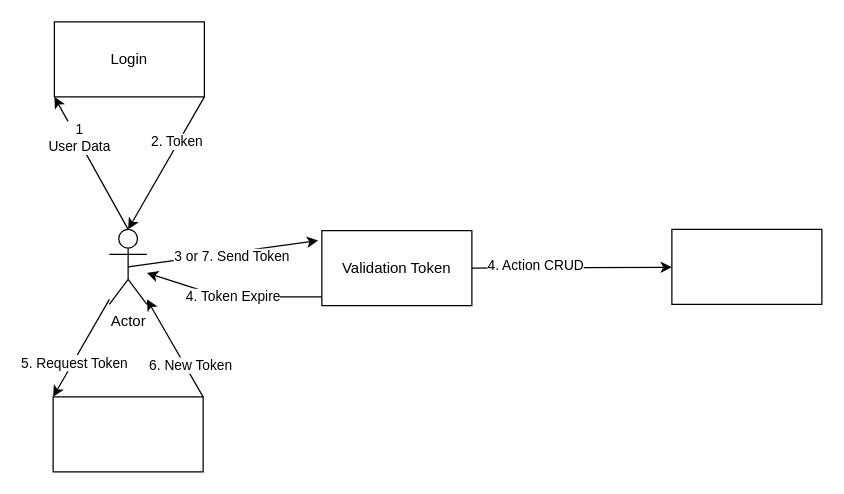
Some shapes in this 844 by 494 pixel diagram are drawn without their labels. The centre of each missing label's shape, as x and y in pixels:
CRUD User: point 746,266
Refresh Token: point 127,434
